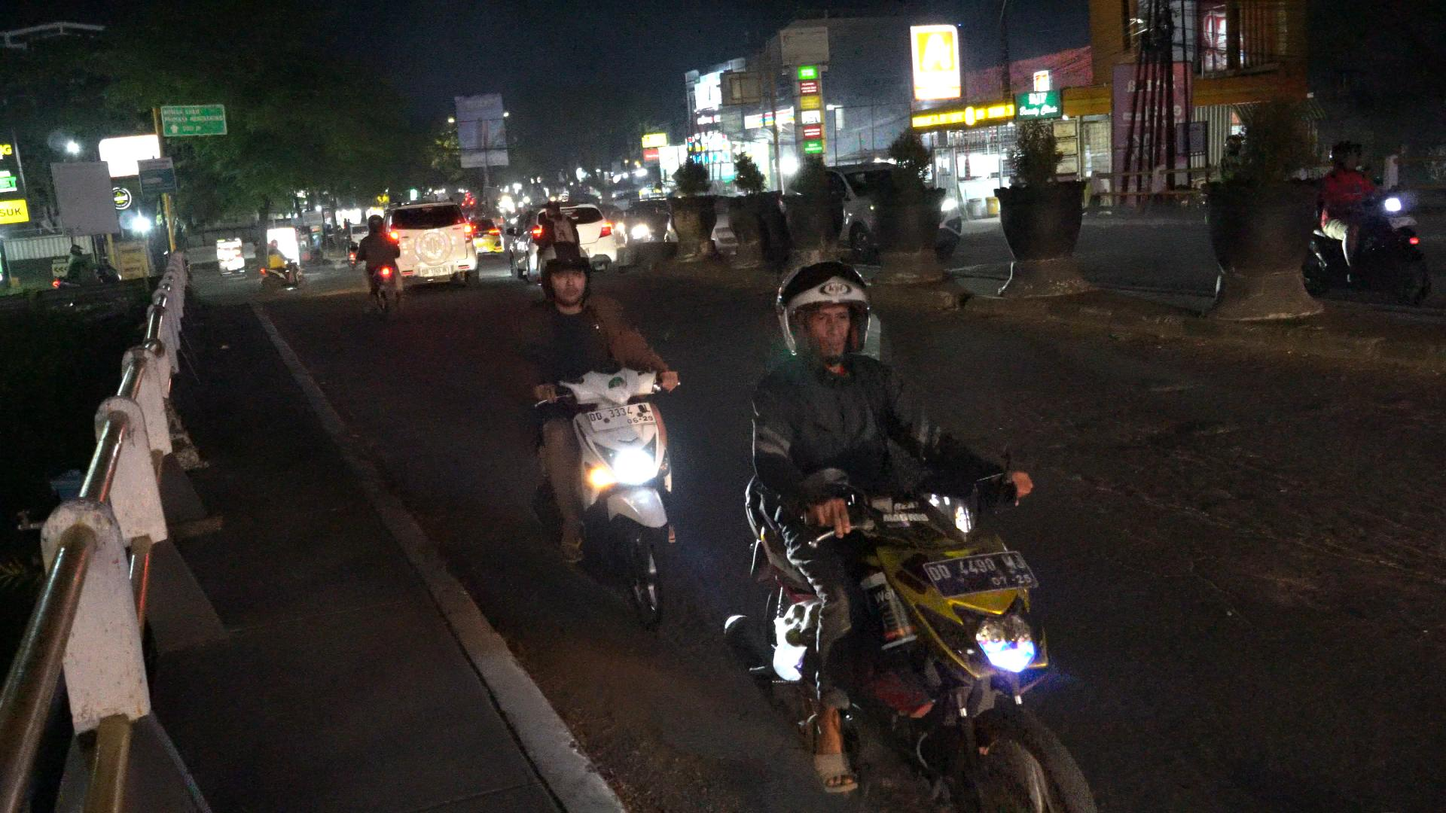number-plate: (926, 548, 1042, 599), (583, 395, 655, 427)
